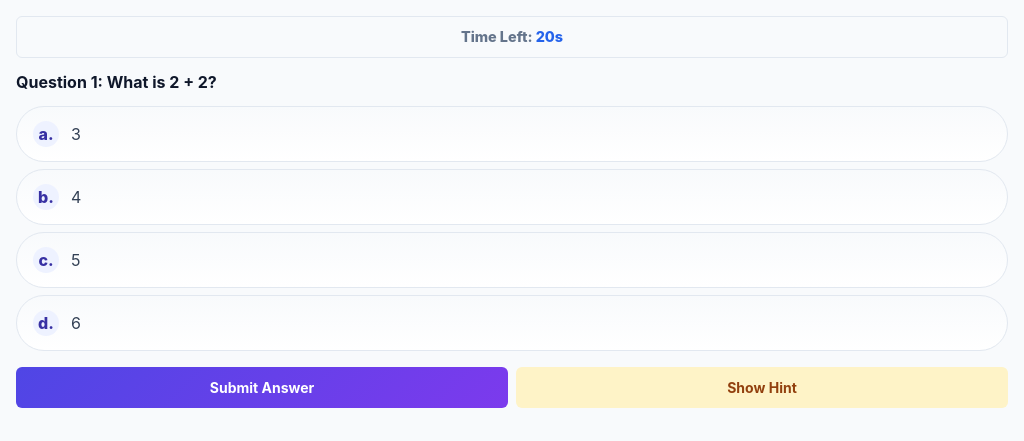
MCQCard › Answer submission › shows incorrect result feedback for a wrong answer
This screenshot has width=1024, height=441.
Click the button "a. 3".
click(46, 134)  # box x1=16 y1=106 x2=1008 y2=162
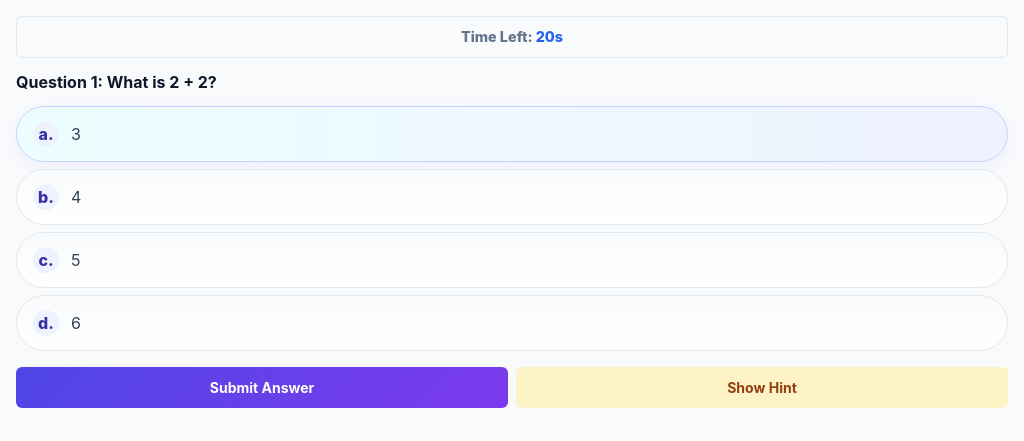
Click the button "Submit Answer".
click(262, 387)  # box x1=16 y1=367 x2=508 y2=408
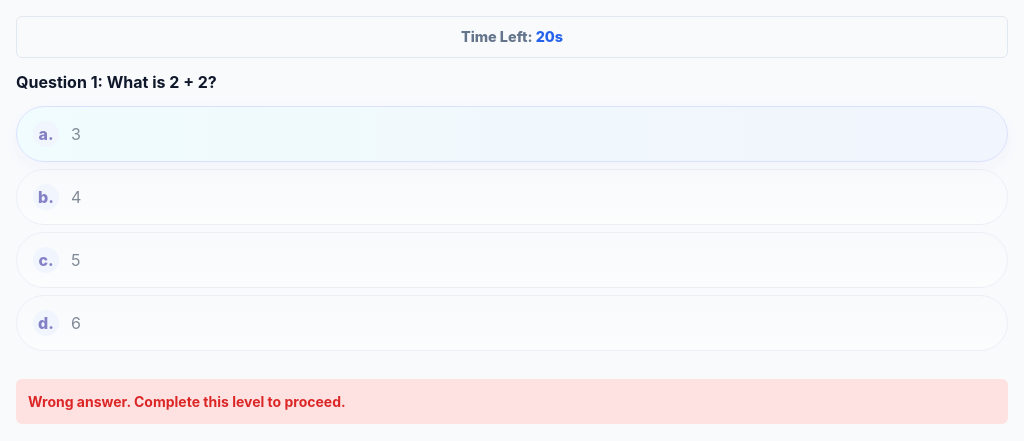
Check: the text "Wrong answer. Complete this level to proceed." is shown, box x1=16 y1=379 x2=1008 y2=424
